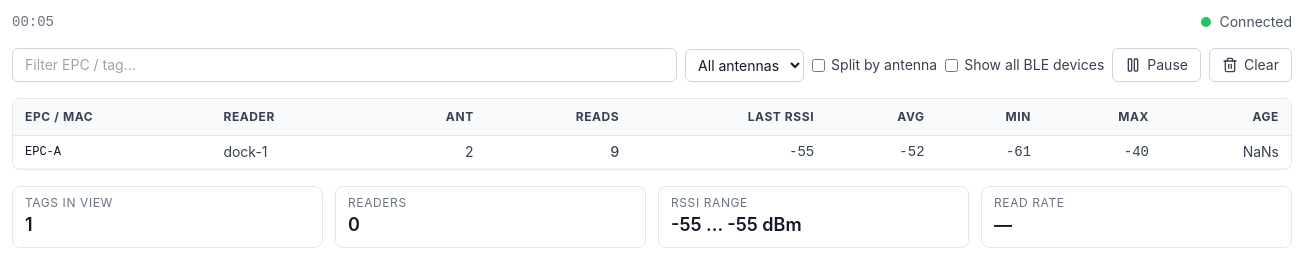
LiveReadsFeed › Clear resets the session timer back to 00:00 (TRA-999)
The image size is (1304, 265).
Expected: the text "00:05" is shown, x1=12 y1=12 x2=54 y2=32
Click the button "Clear".
click(1250, 65)  # box x1=1209 y1=48 x2=1292 y2=82
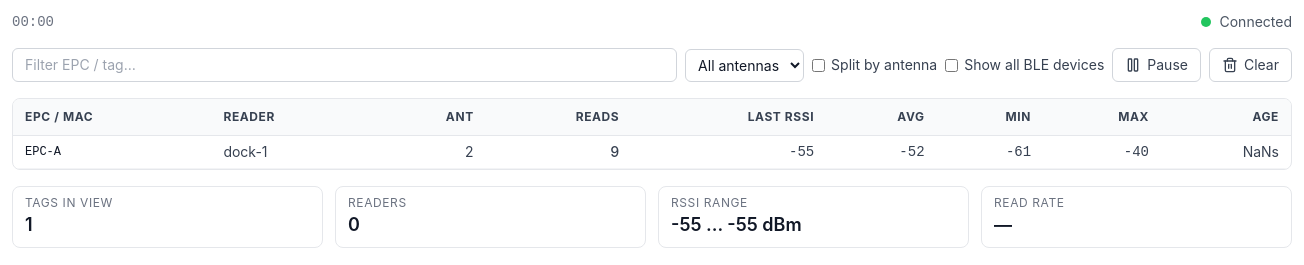
Expected: the text "00:00" is shown, x1=12 y1=12 x2=54 y2=32
Expected: the text "00:05" is gone
